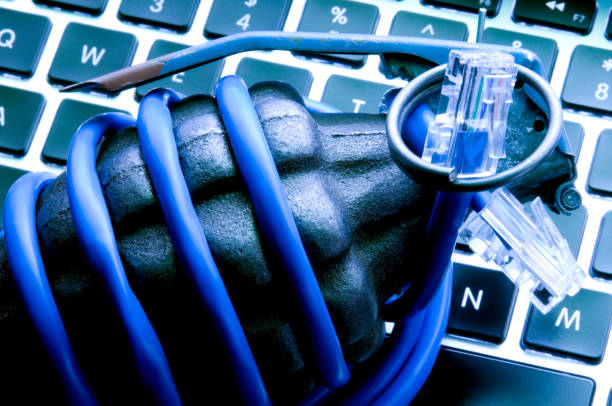e1: (5, 34, 574, 405)
